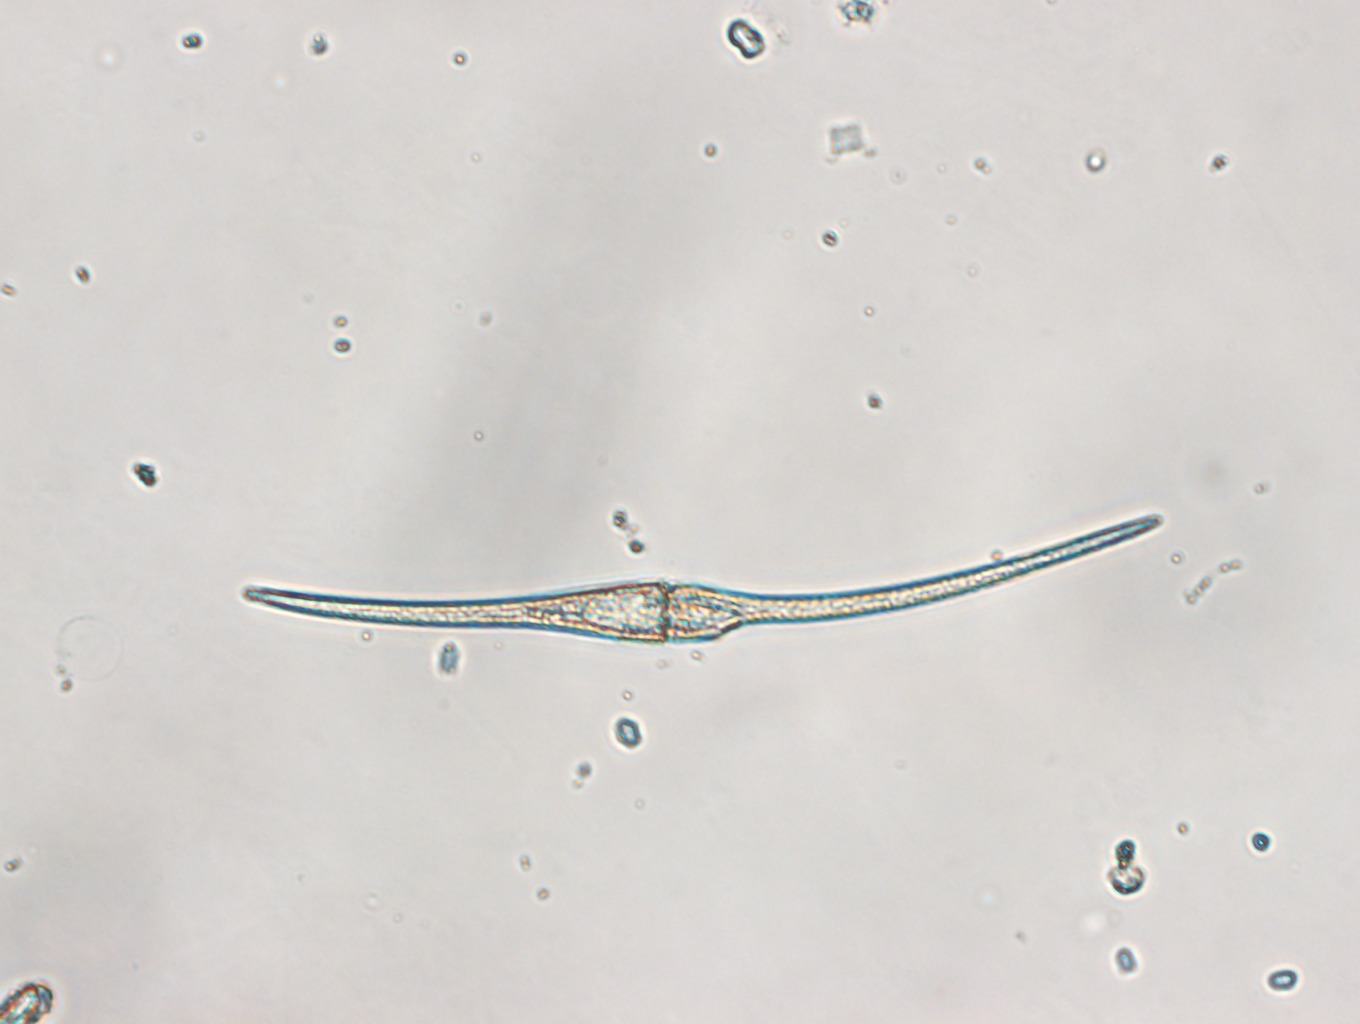ceratium fusus: (241, 510, 1161, 646)
